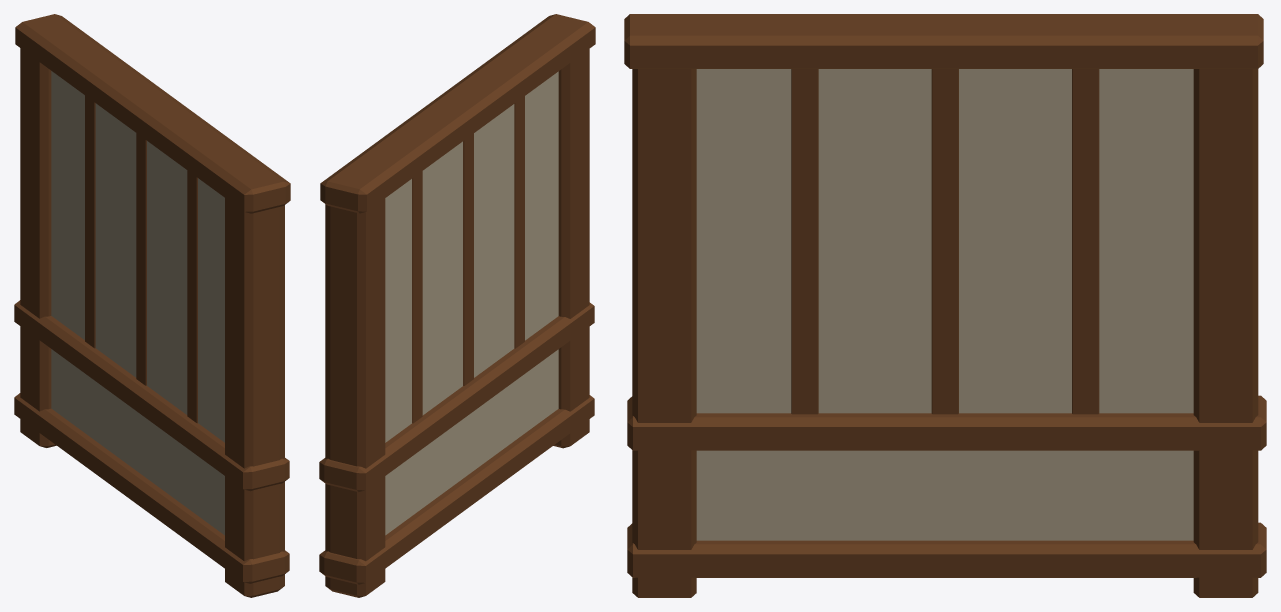
The model's file is wall.fbx.
3 renders of one model, left to right at view 1: azimuth 30°, elevation 25°; view 2: azimuth 150°, elevation 25°; view 3: azimuth 270°, elevation 25°, orthographic. The views are drawn at different scales.
Parts seen in each view (by area): view 1: Cube.033; view 2: Cube.033; view 3: Cube.033.
Part boxes in pixels (<box>): Cube.033: <box>14,14,290,597</box>; Cube.033: <box>319,14,595,597</box>; Cube.033: <box>624,14,1266,597</box>.
Bounding box in the file's own units: 26.28 × 222 × 229.
